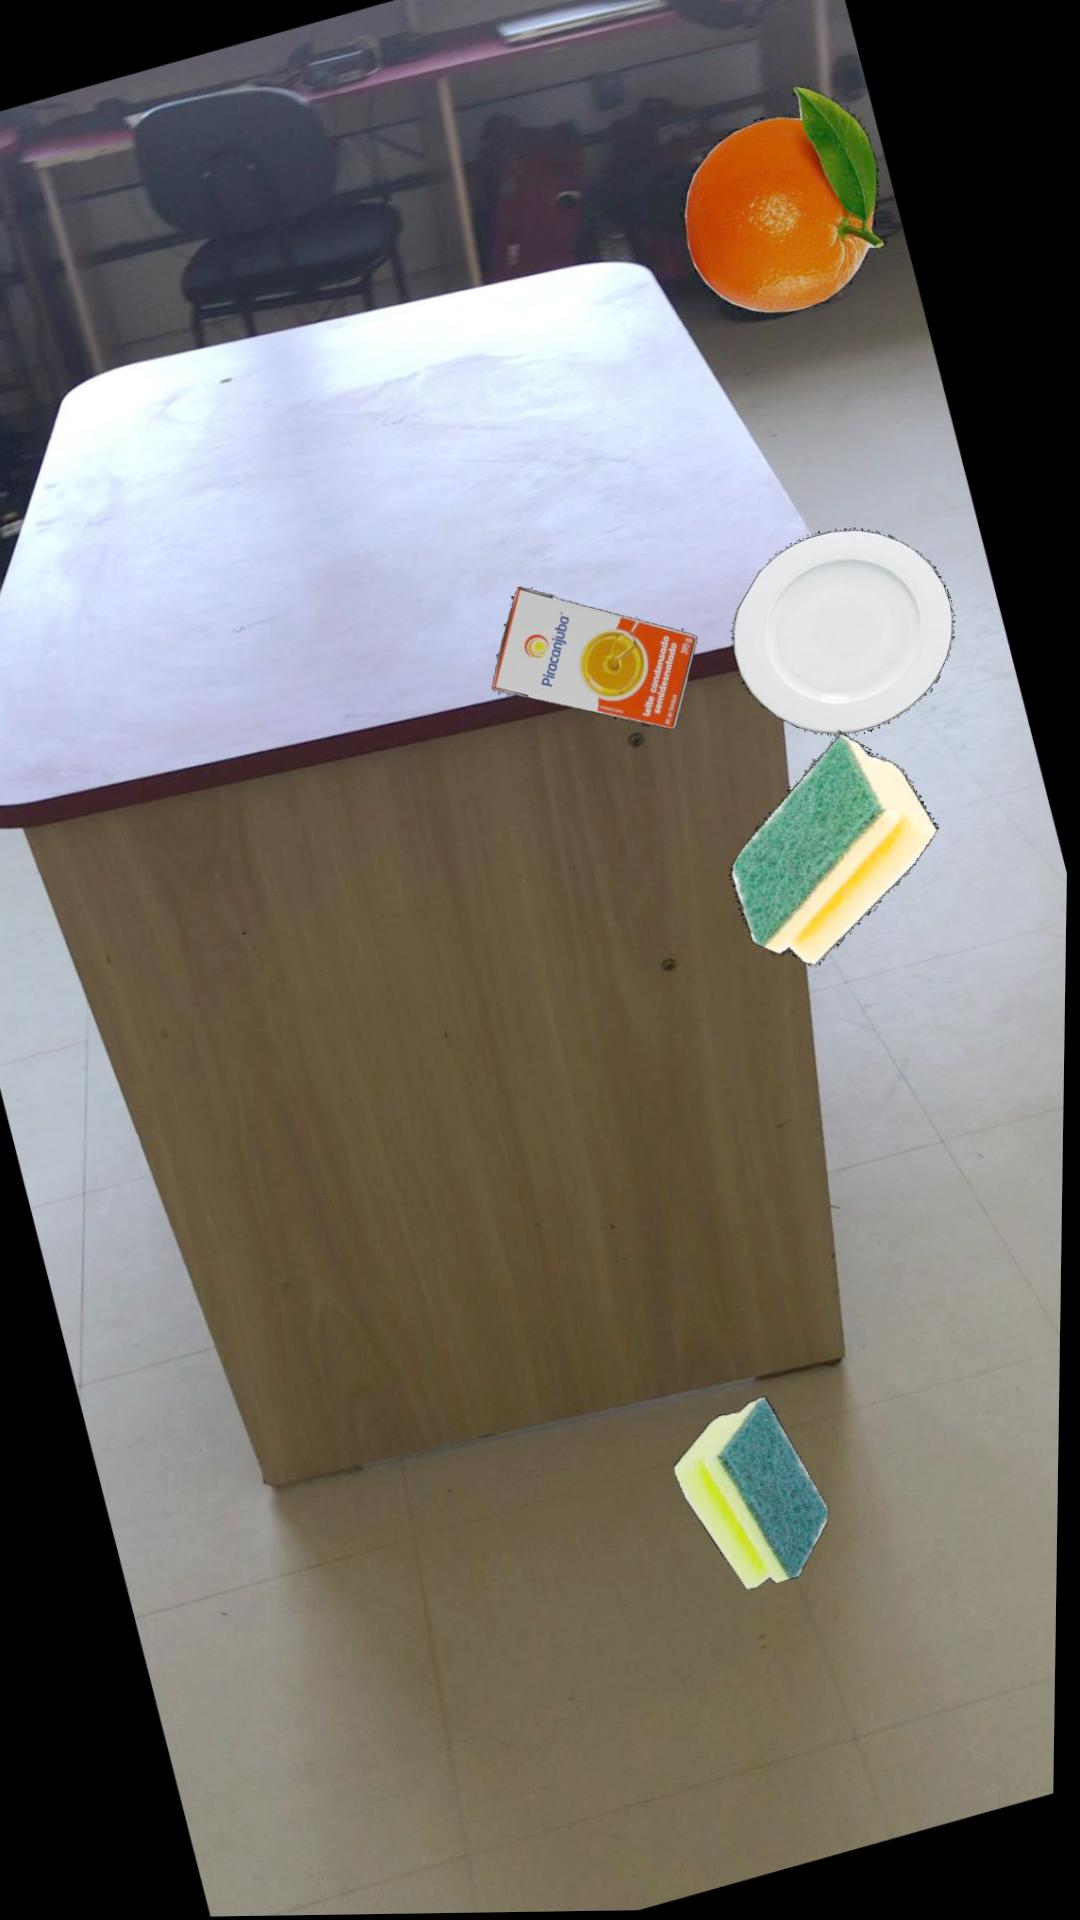orange: (683, 86, 886, 314)
plate: (733, 529, 957, 735)
sponge: (732, 733, 942, 967), (678, 1396, 835, 1590)
